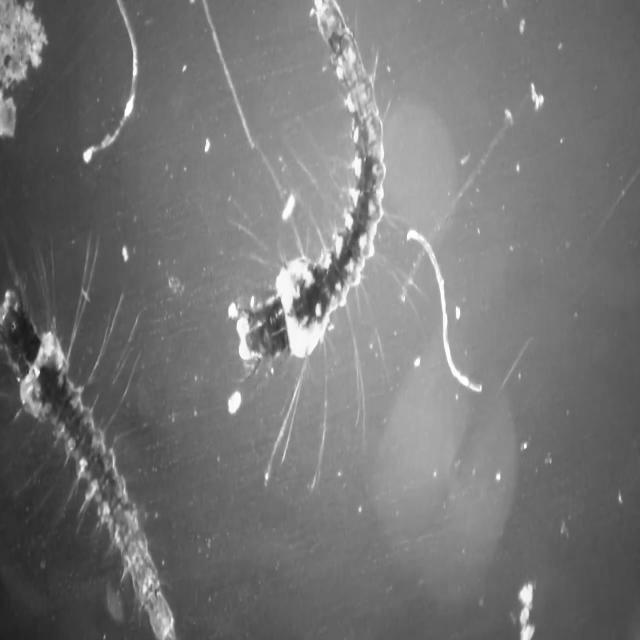larvas: (0, 285, 175, 640), (231, 0, 386, 358)
